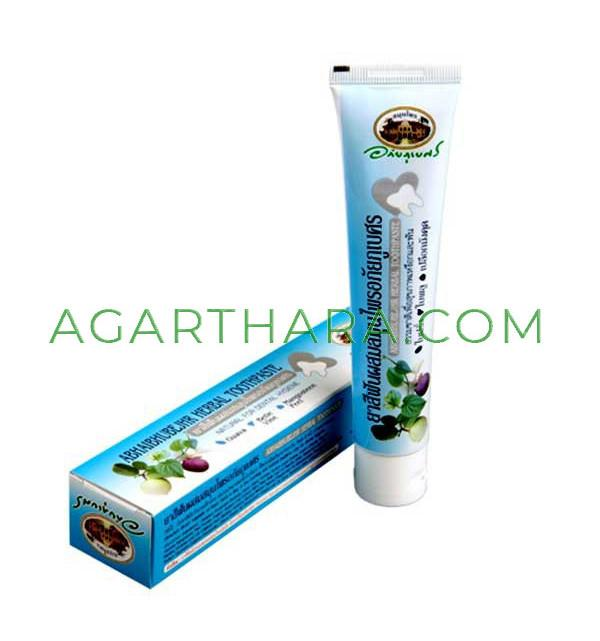toothpaste: (310, 44, 501, 526)
